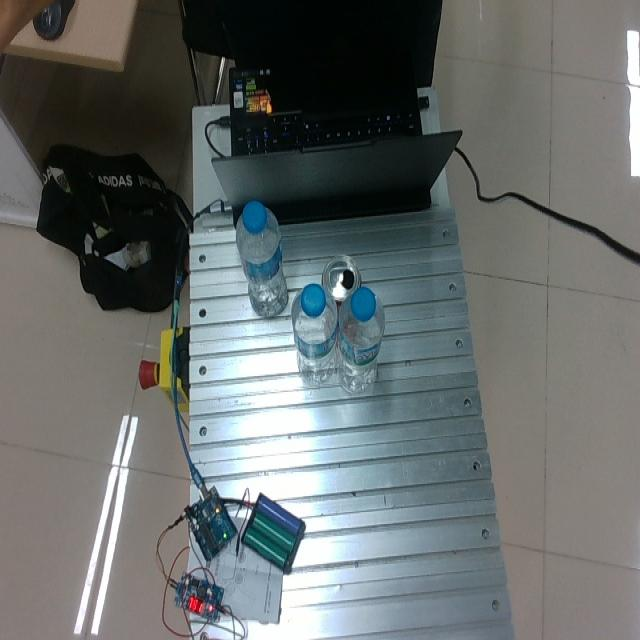coca: (321, 255, 363, 313)
lavie: (236, 200, 288, 317), (337, 287, 386, 393), (291, 283, 339, 385)
